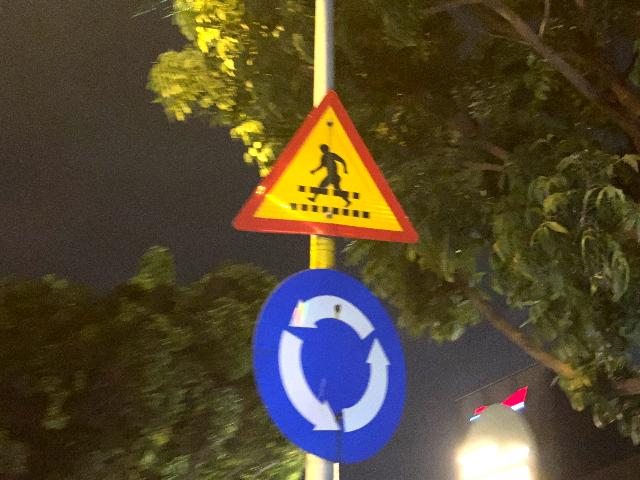duong-nguoi-di-bo-cat-ngang: (231, 90, 420, 244)
noi-giao-nhau-chay-theo-vong-xuyen: (252, 267, 406, 465)
